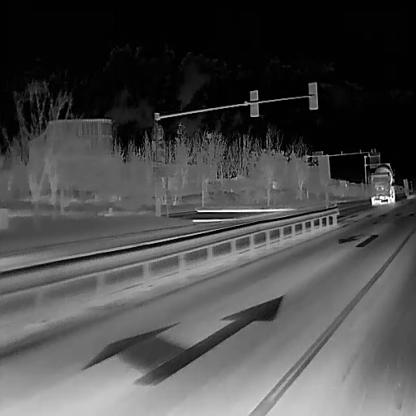truck: (367, 161, 395, 205)
